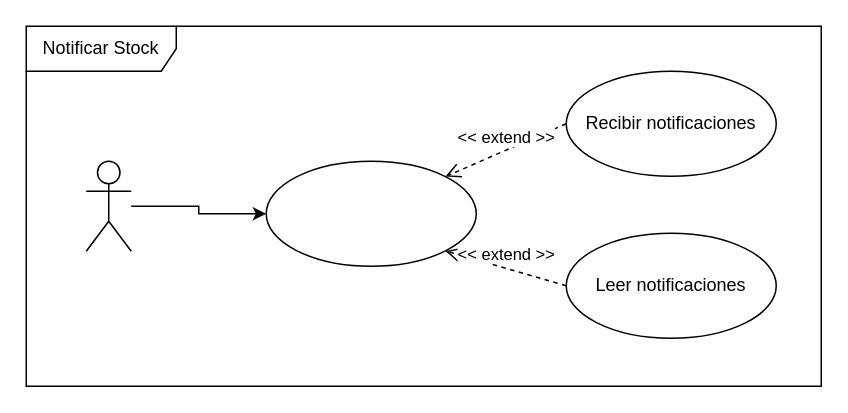
Some shapes in this 848 by 413 pixel diagram are drawn without their labels. The centre of each missing label's shape, as x and y in pixels:
Encargado de Farmacia: (x=108, y=205)
Ver inventario: (x=370, y=213)
